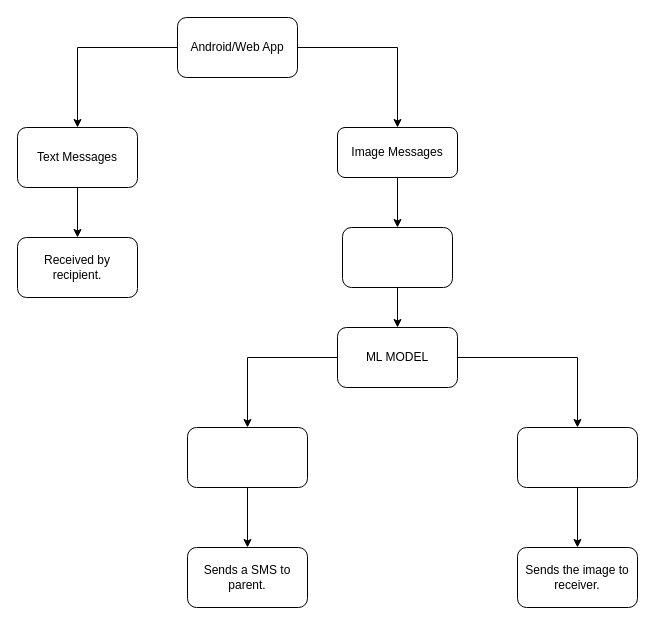
The diagram is 655 pixels wide and 625 high, and some of its shapes have lost their labels. Each missing label, with the centre of its shape:
"False" goes at point (577, 457).
"Flask API" goes at point (397, 257).
"True" goes at point (247, 457).
